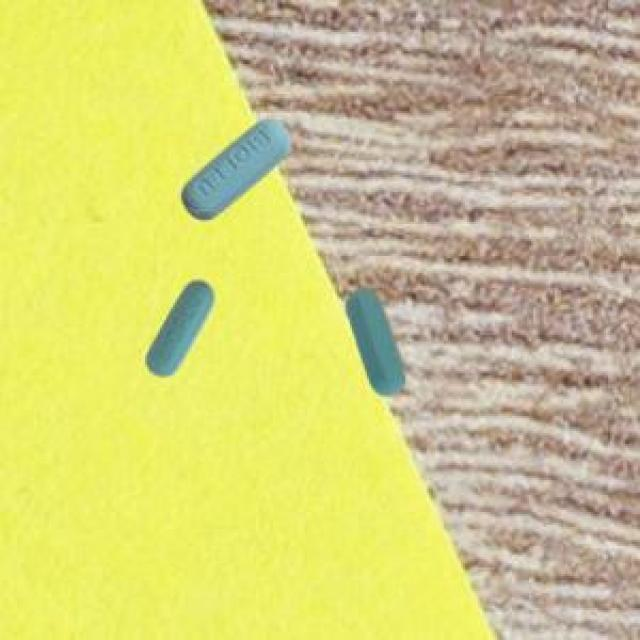Bioflu: (170, 90, 310, 236), (120, 270, 244, 382), (329, 271, 424, 402)
